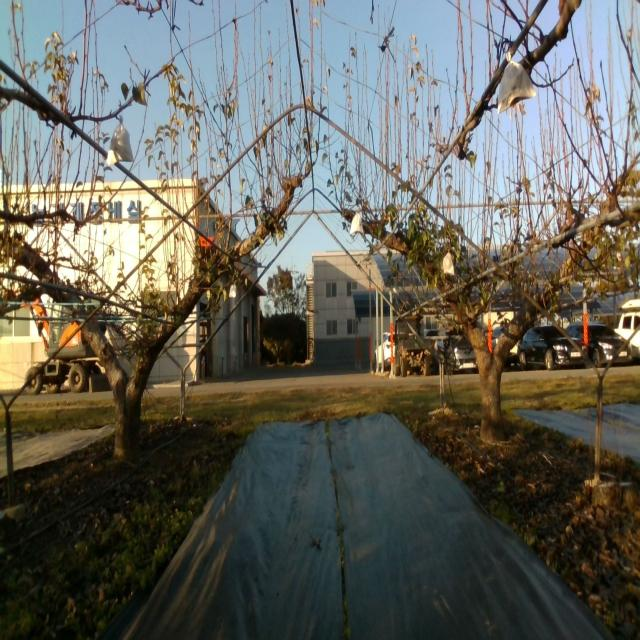pearbags: (495, 51, 536, 115), (105, 115, 134, 167), (349, 213, 365, 237), (443, 249, 455, 277)
